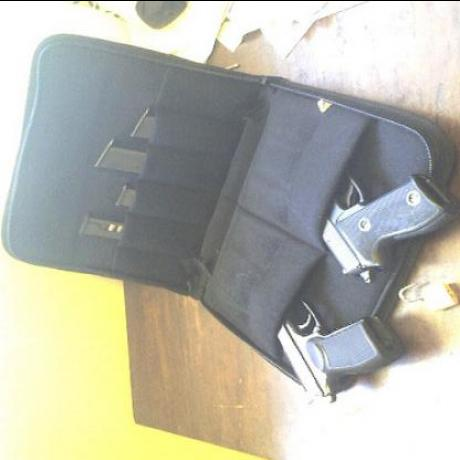weapon: (322, 169, 453, 294), (273, 296, 399, 410)
